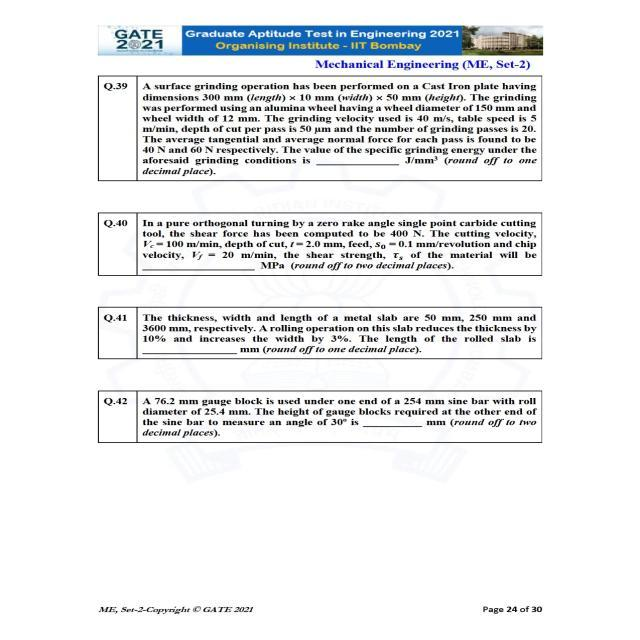Question_Answer_Block: (56, 75, 574, 197), (56, 204, 574, 288), (56, 378, 574, 457), (56, 294, 574, 368)
Question_Block: (56, 75, 574, 197), (56, 204, 574, 288), (56, 378, 574, 457), (56, 294, 574, 368)
Question_Paper_Area: (56, 75, 574, 482)
